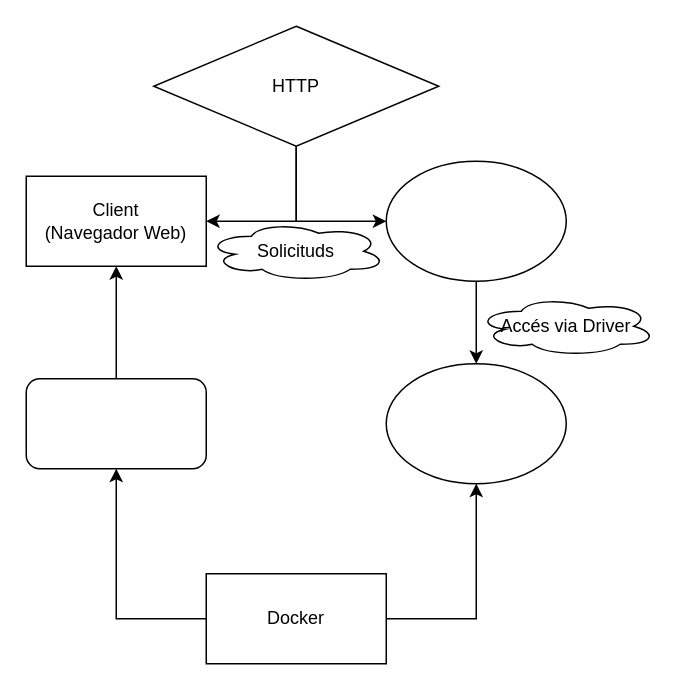
The diagram is 683 pixels wide and 690 high, and some of its shapes have lost their labels. The shapes that lost their labels are listed below. From the top down, each one's box as (x1, y1, x2, y2) in pixels, then its label:
(385, 160, 566, 281): Servidor en Node.js a través del app.js
(25, 377, 206, 469): Vistes de les opcions (.ejs) (actuacions,admin,etc)
(385, 362, 566, 484): Base de Dades (MongoDB,Sequelize)
